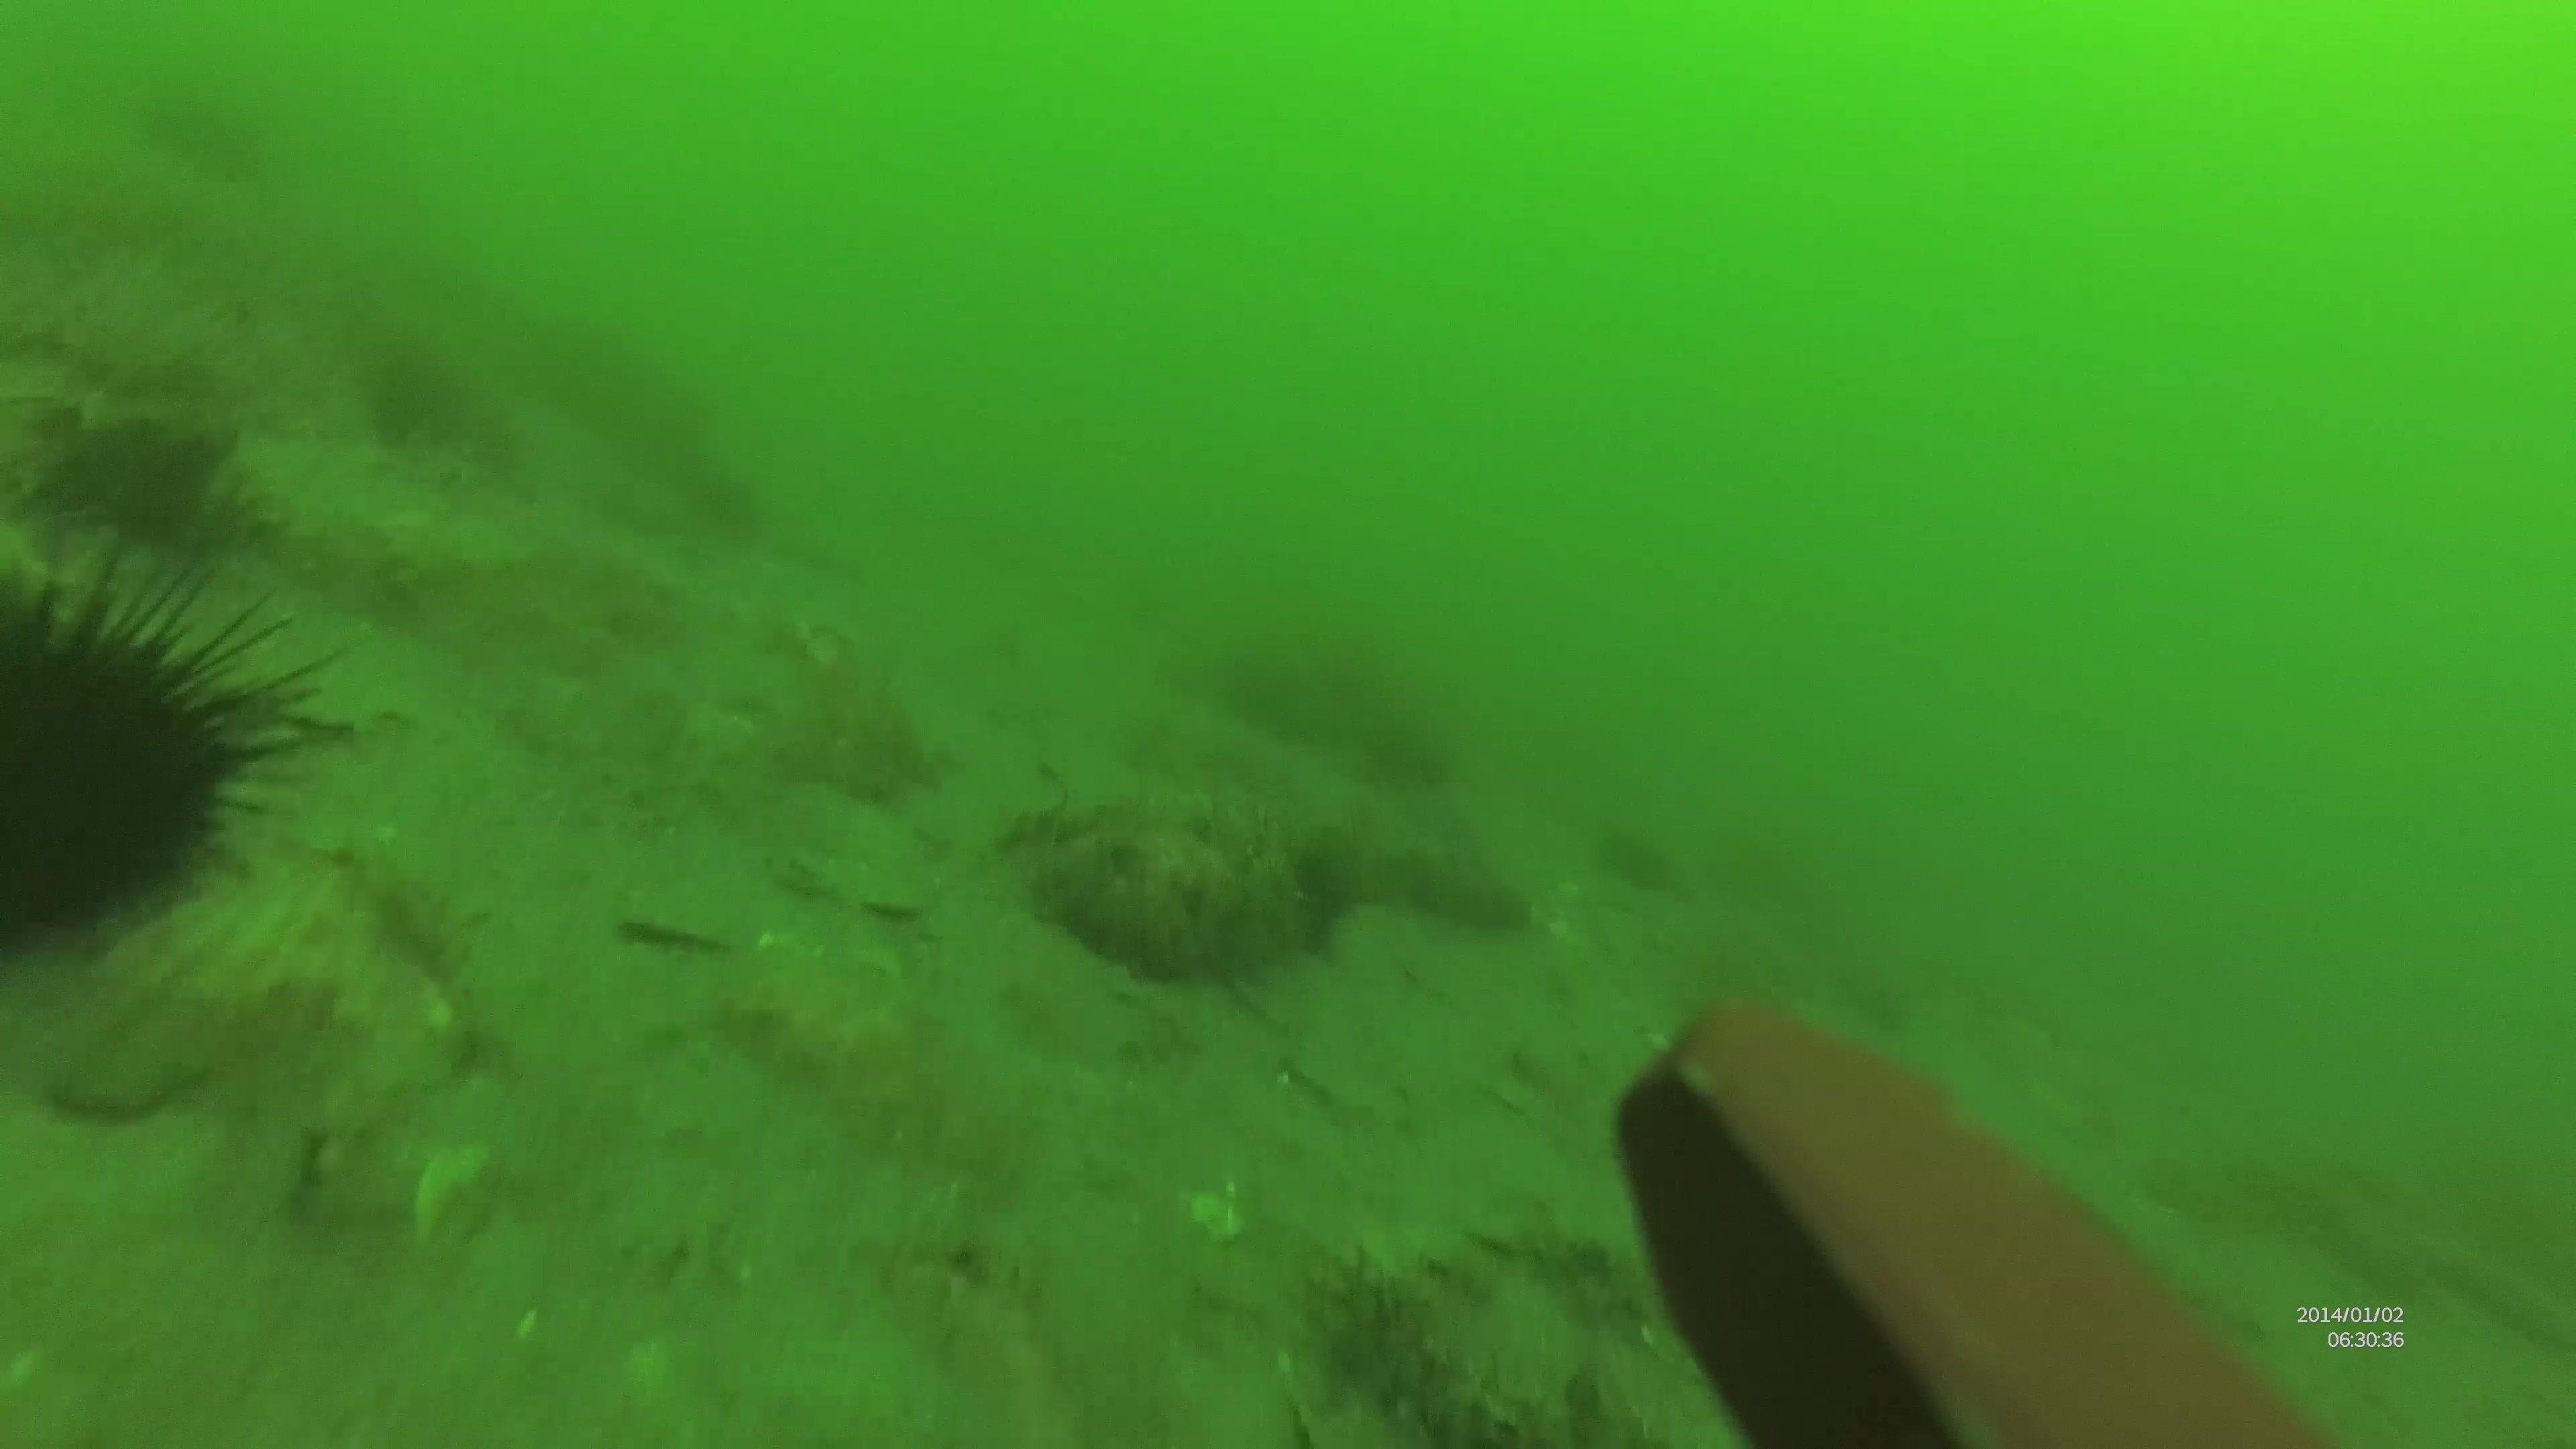echinus: (5, 547, 338, 962)
holothurian: (1300, 1242, 1582, 1449)
